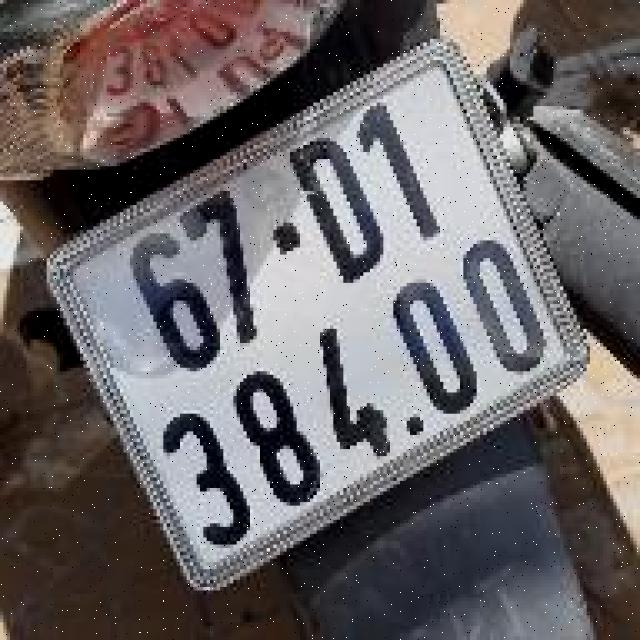0: (444, 221, 567, 389), (376, 263, 497, 431)
1: (339, 83, 469, 263)
3: (149, 394, 272, 564)
4: (291, 309, 407, 479)
6: (114, 223, 235, 389)
7: (169, 179, 295, 355)
8: (216, 354, 340, 523)
D: (274, 120, 407, 299)
